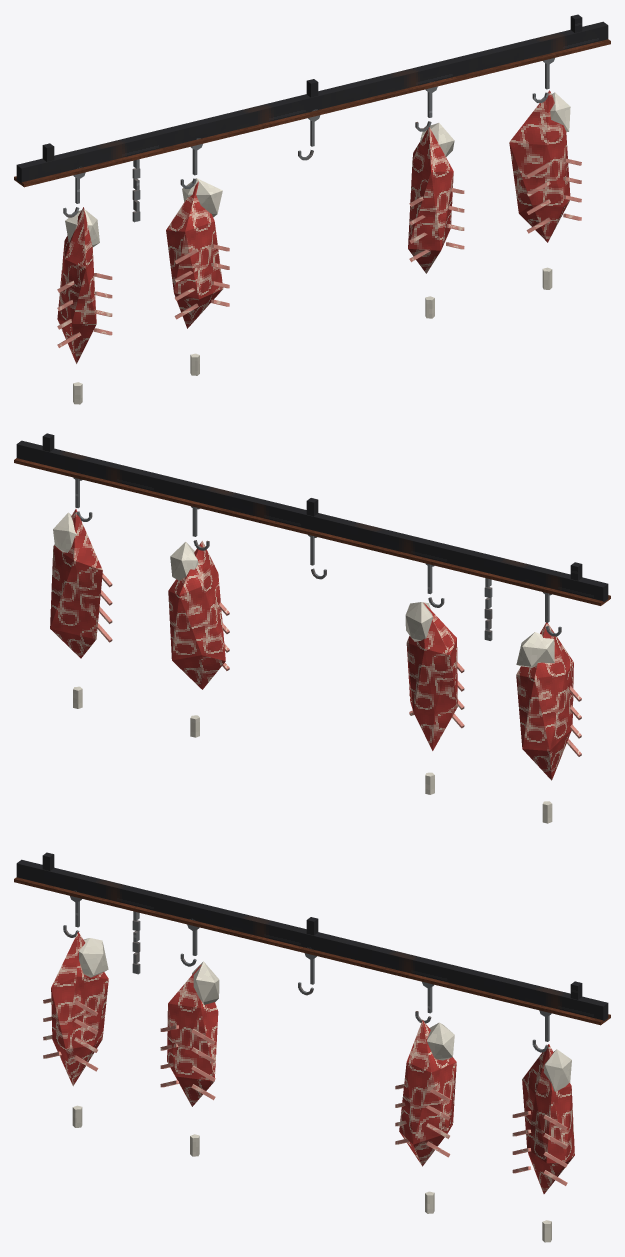
Rendered from meat_hook_rail.glb.
3 views of the same model, one above another, from view 1: azimuth 30°, elevation 25°; view 2: azimuth 150°, elevation 25°; view 3: azimuth 330°, elevation 25° (orthographic).
Visible parts, largest first — view 1: meat_hook_rail; view 2: meat_hook_rail; view 3: meat_hook_rail.
Boxes of the visible parts, x1=… form: meat_hook_rail: x1=14, y1=14, x2=610, y2=404; meat_hook_rail: x1=14, y1=433, x2=610, y2=823; meat_hook_rail: x1=14, y1=852, x2=610, y2=1242.
Size of the model in its own units: 4 by 1.72 by 0.3968.
Materials: 6 (6 with a texture image).
